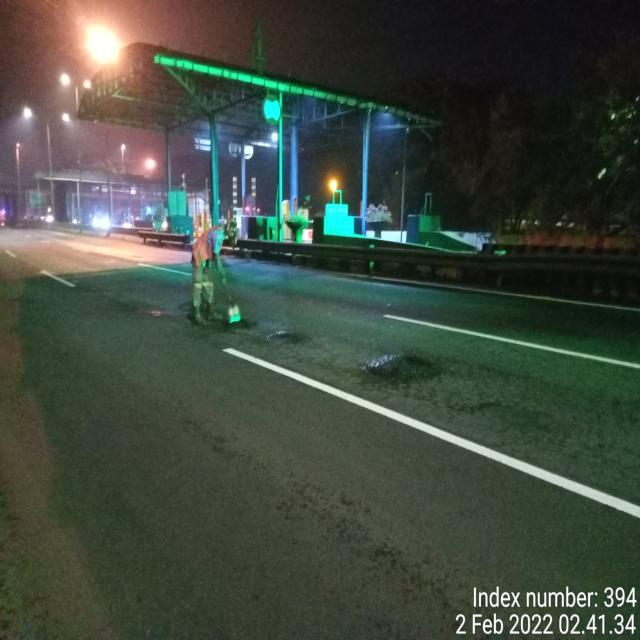Buraco: (356, 350, 456, 386), (442, 396, 516, 418), (262, 327, 308, 348)
